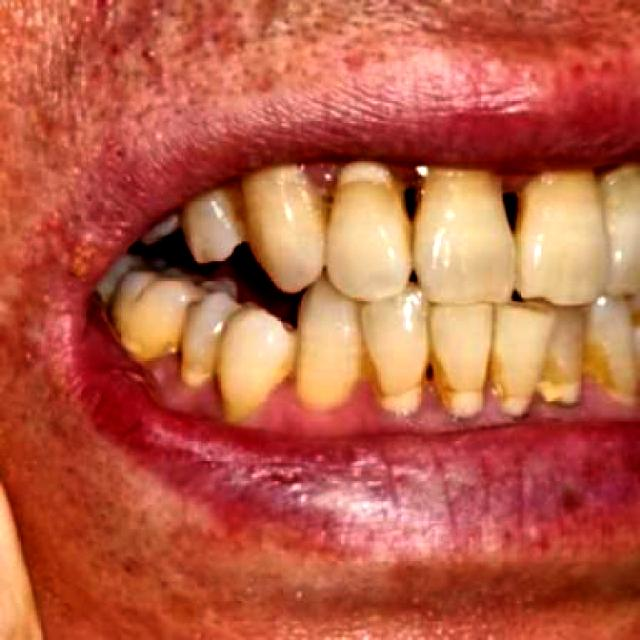Plaque: (327, 373, 631, 434), (150, 355, 217, 410), (304, 161, 342, 193), (381, 161, 427, 183), (493, 172, 534, 195)
